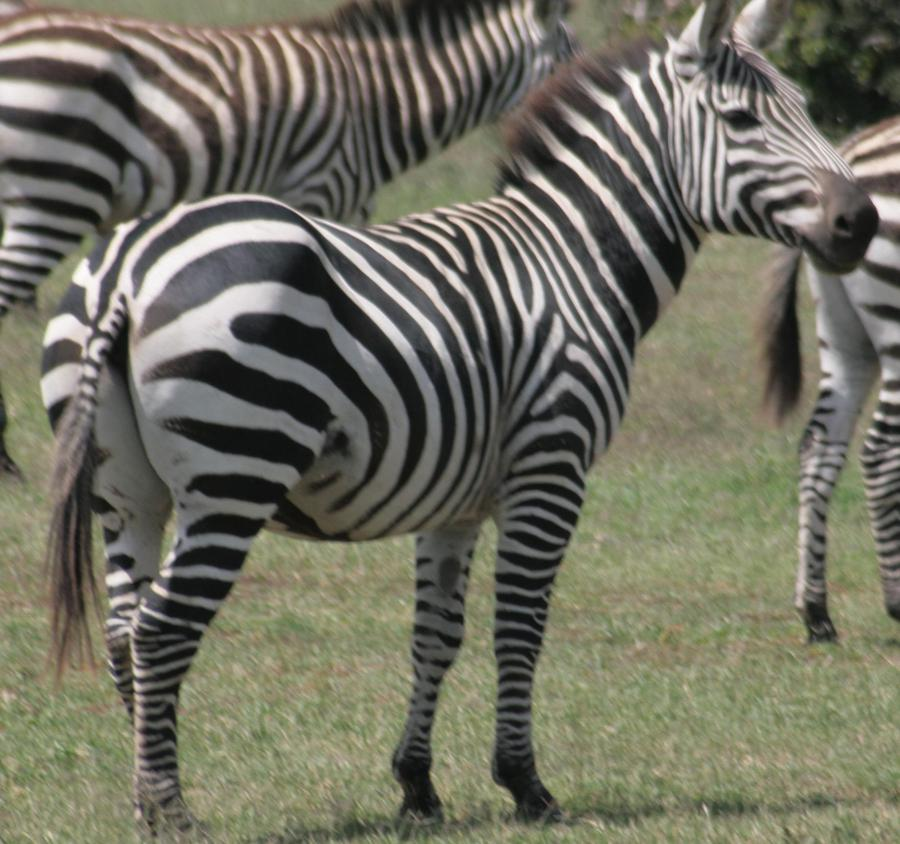zebra_plains: (133, 182, 618, 562)
